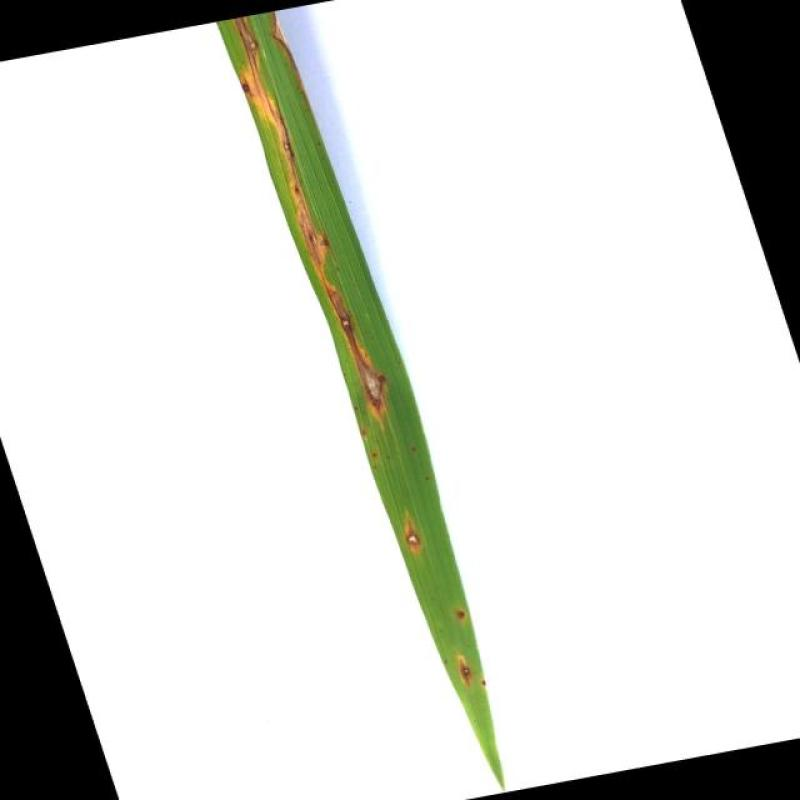Leaf_Blast: (351, 349, 390, 426), (324, 282, 352, 340), (402, 510, 424, 554), (272, 16, 292, 59), (458, 655, 473, 687), (238, 78, 254, 94), (246, 38, 262, 52), (281, 140, 294, 154), (455, 605, 467, 620)
